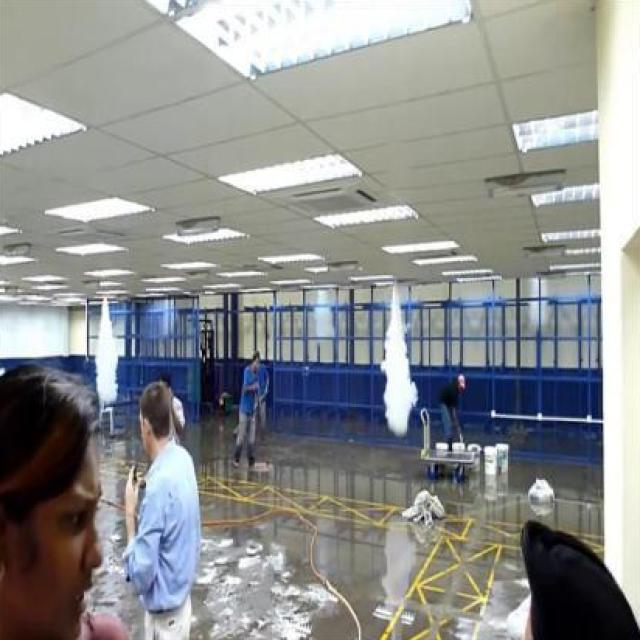fire: (378, 281, 419, 446), (95, 300, 126, 418)
